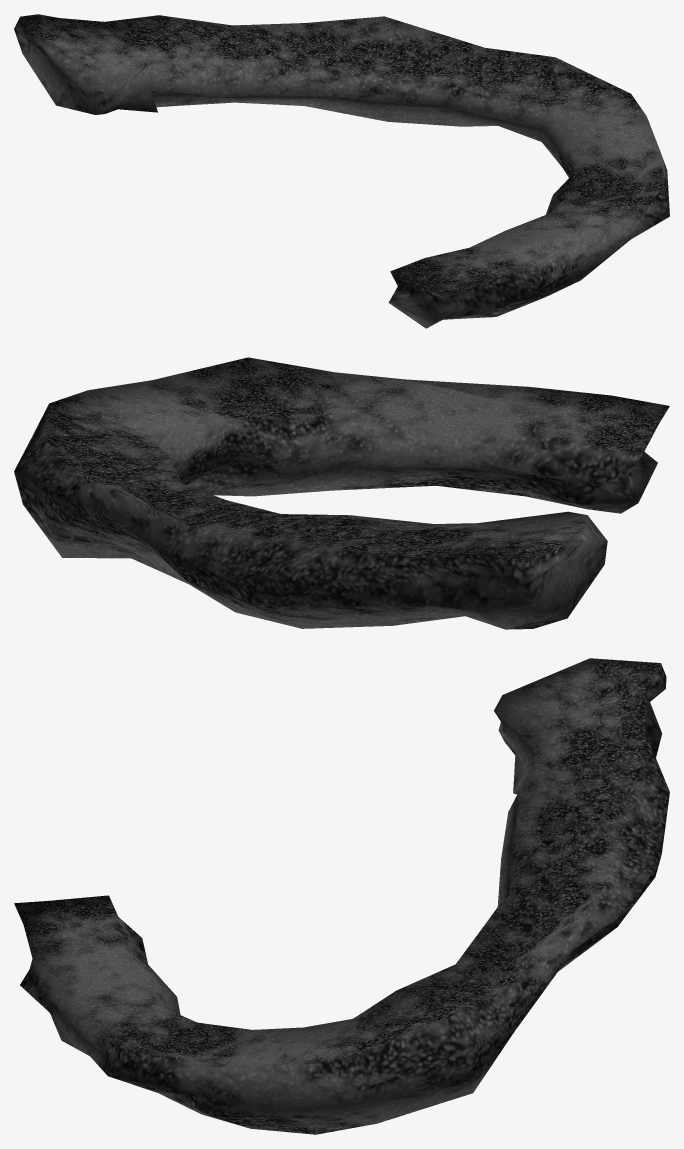
Rendered from 32smooth.fbx.
The picture shows the model from 3 angles, top to bottom: view 1: azimuth 30°, elevation 25°; view 2: azimuth 150°, elevation 25°; view 3: azimuth 270°, elevation 25°; orthographic projection. The views are drawn at different scales.
Parts seen in each view (by area): view 1: Cube; view 2: Cube; view 3: Cube.
Part boxes in pixels (<box>): Cube: <box>14,14,669,328</box>; Cube: <box>14,357,669,629</box>; Cube: <box>14,658,669,1134</box>.
Bounding box in the file's own units: 475 × 170 × 453.
